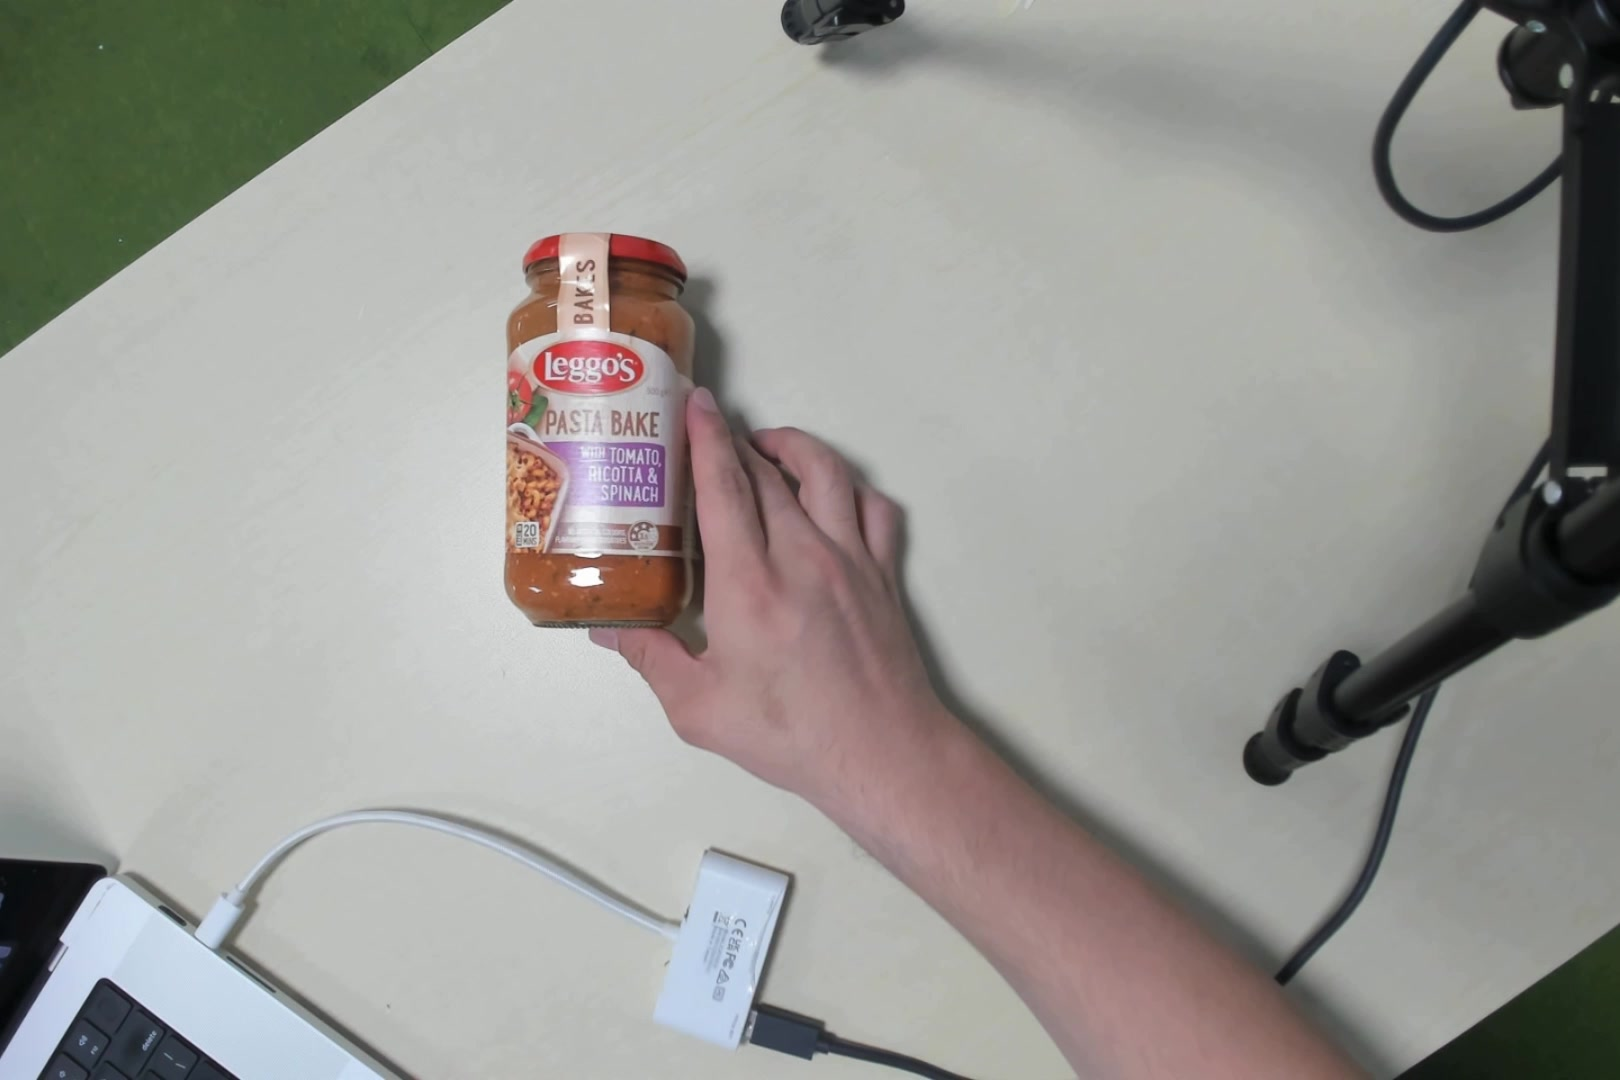Pasta_500-599g_Halal_NonHealthy: (495, 215, 686, 647)
